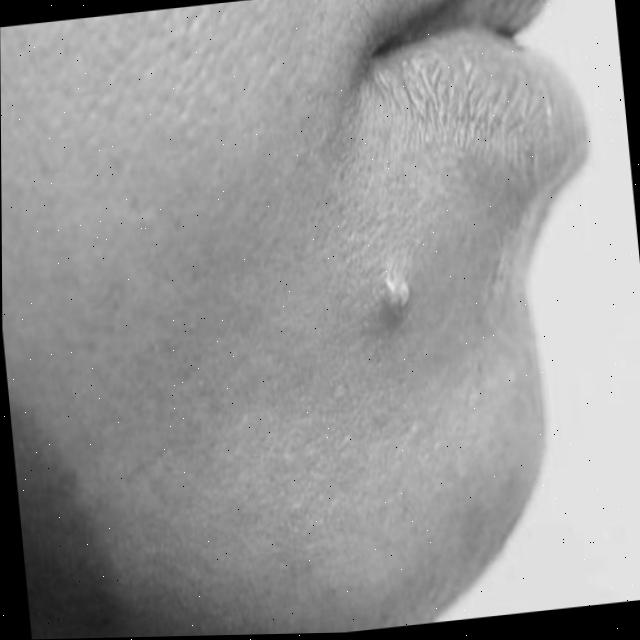Acne: (377, 269, 417, 319)
